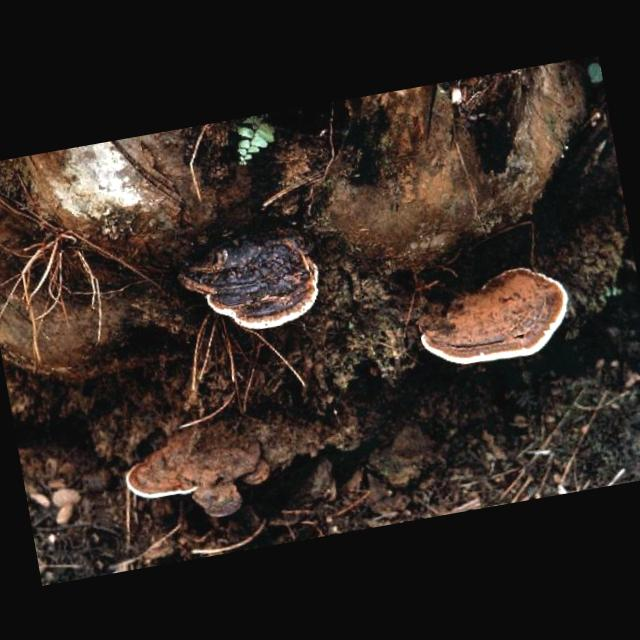ganoderma: (411, 260, 579, 375), (173, 232, 328, 345), (120, 452, 199, 508)
